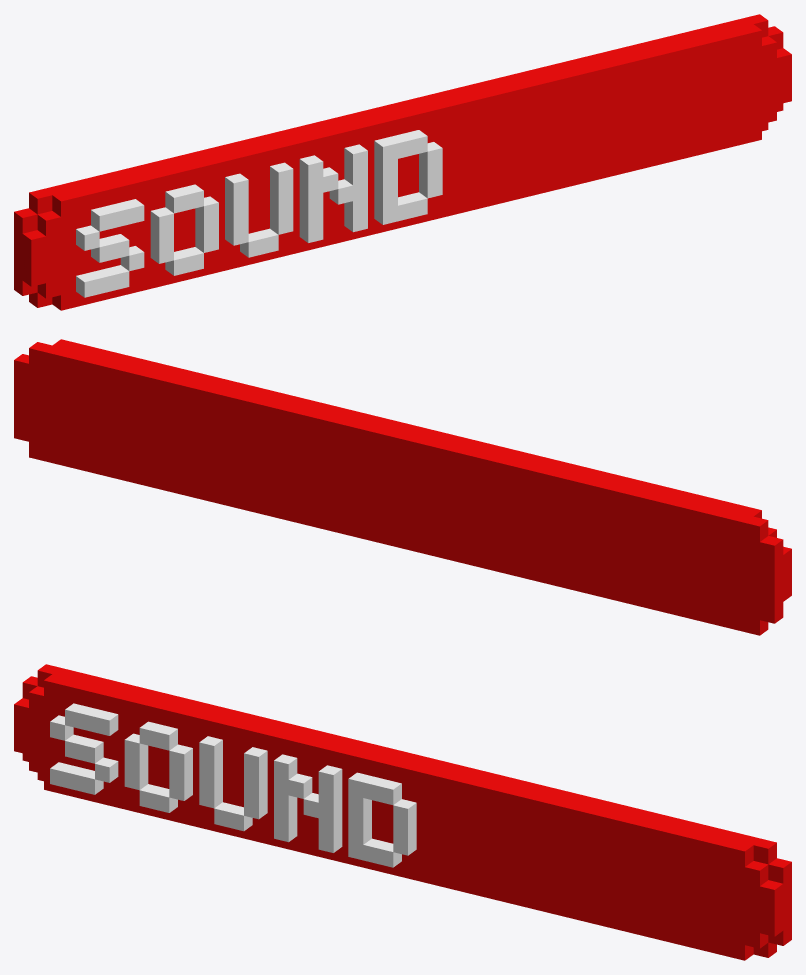
Rendered from sound.obj.
The picture shows the model from 3 angles, top to bottom: view 1: azimuth 30°, elevation 25°; view 2: azimuth 150°, elevation 25°; view 3: azimuth 330°, elevation 25°; orthographic projection.
Visible parts, largest first — view 1: sound; view 2: sound; view 3: sound.
Boxes of the visible parts, x1,y1,x2,y2 form: sound: (14, 14, 791, 310); sound: (14, 339, 791, 635); sound: (14, 664, 791, 960).
Size of the model in its own units: 51 by 7 by 3.
1 material, 1 textured.
